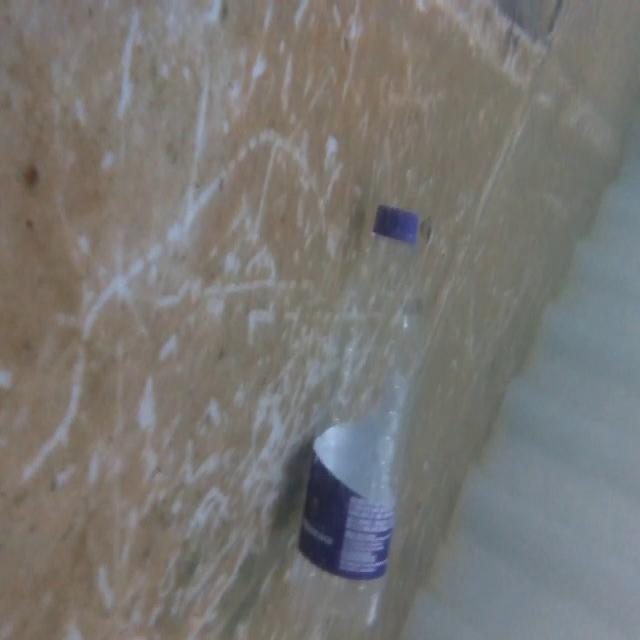plastic bottle: (290, 204, 425, 640)
